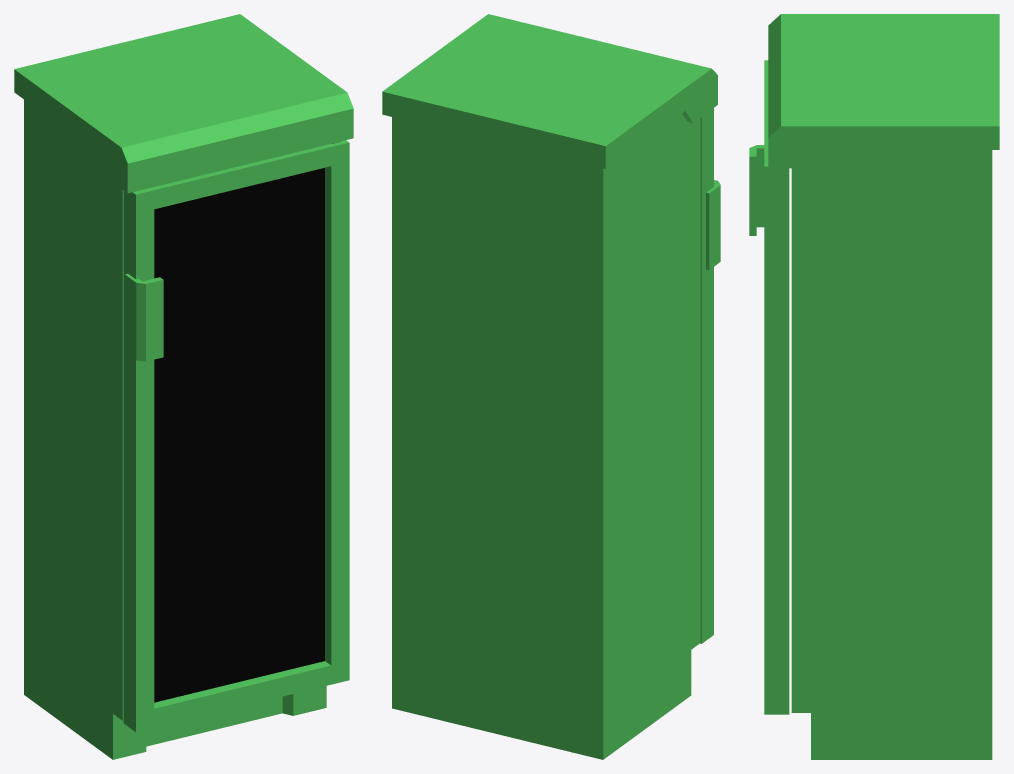
The model's file is Ph_refrigerator.fbx.
The picture shows the model from 3 angles, left to right: view 1: azimuth 30°, elevation 25°; view 2: azimuth 150°, elevation 25°; view 3: azimuth 270°, elevation 25°; orthographic projection. The views are drawn at different scales.
Parts seen in each view (by area): view 1: Cylinder_71, Cube_80; view 2: Cube_80, Cylinder_71; view 3: Cube_80, Cylinder_71.
Part boxes in pixels (<box>): Cylinder_71: <box>123,140,349,732</box>; Cube_80: <box>14,14,353,759</box>; Cube_80: <box>382,14,717,759</box>; Cylinder_71: <box>700,108,720,643</box>; Cube_80: <box>768,14,999,759</box>; Cylinder_71: <box>749,60,789,714</box>.
Size of the model in its own units: 76.53 by 202 by 72.05.
